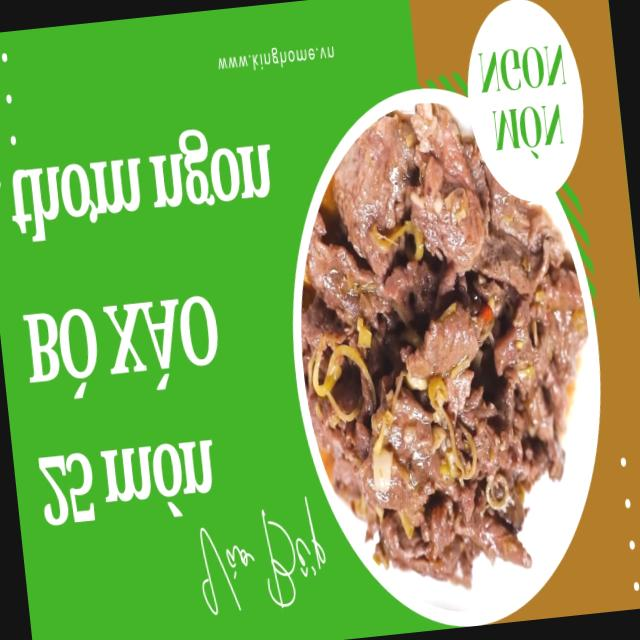bo xao: (301, 103, 586, 587)
